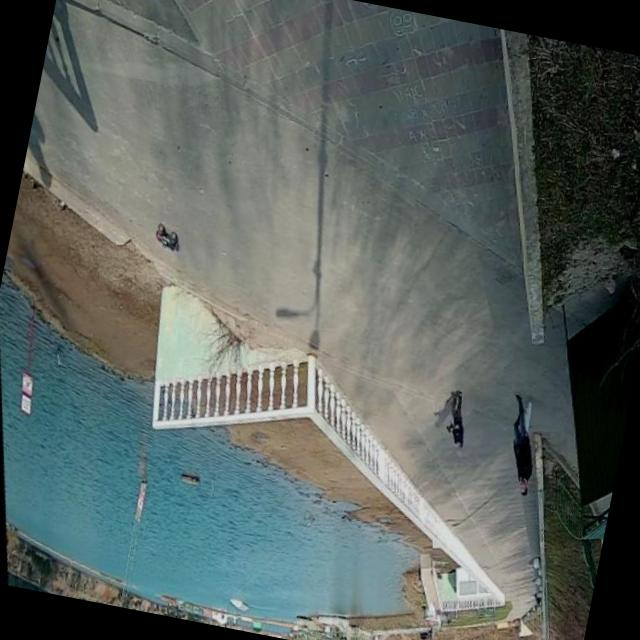person: (493, 390, 554, 501)
